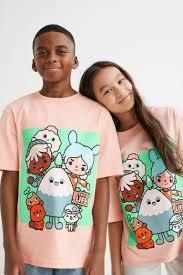Tshirt: (0, 90, 125, 270), (116, 117, 183, 269)
